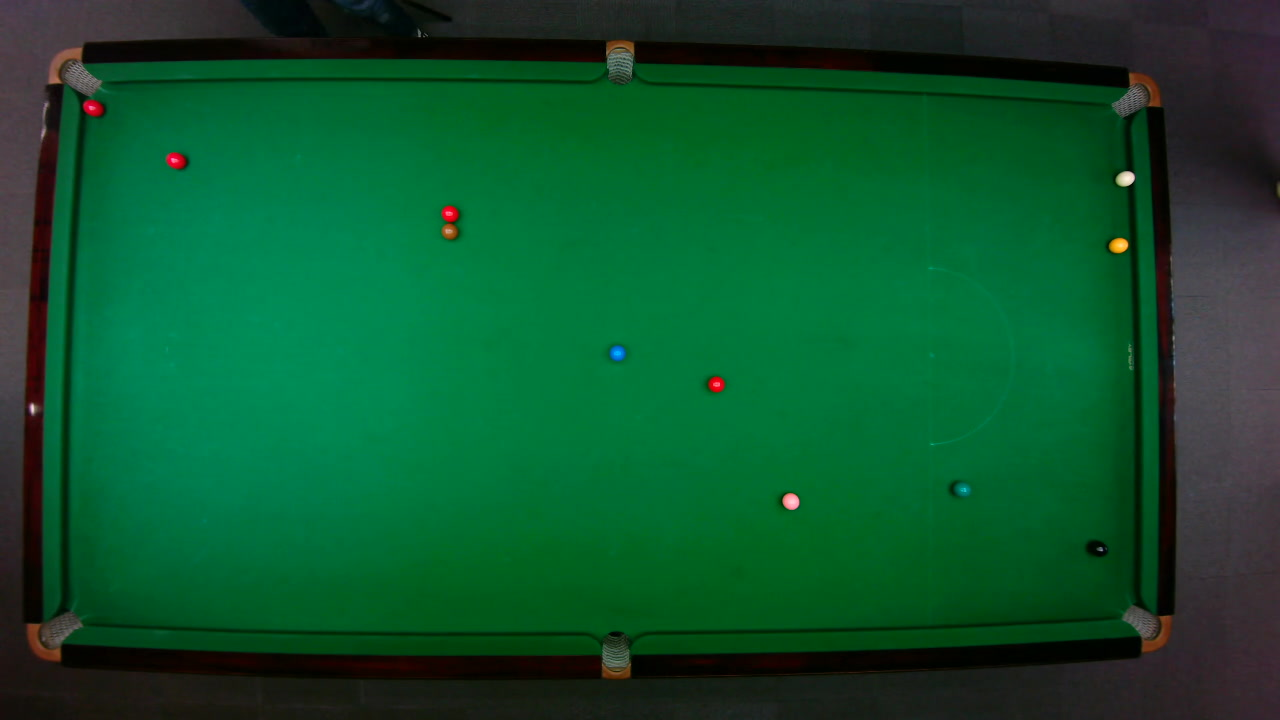bag: (25, 609, 84, 661), (45, 46, 102, 96), (1119, 602, 1172, 652), (1108, 71, 1161, 118), (600, 629, 630, 680), (605, 38, 633, 85)
black: (1087, 539, 1108, 557)
blue: (607, 343, 626, 361)
brown: (440, 223, 458, 240)
green: (951, 480, 971, 497)
pink: (780, 491, 800, 510)
red: (164, 150, 187, 170), (80, 97, 104, 116), (439, 204, 459, 222), (706, 374, 725, 392)
white: (1113, 169, 1136, 187)
yellow: (1107, 236, 1129, 253)
zone: (927, 265, 1013, 445)
